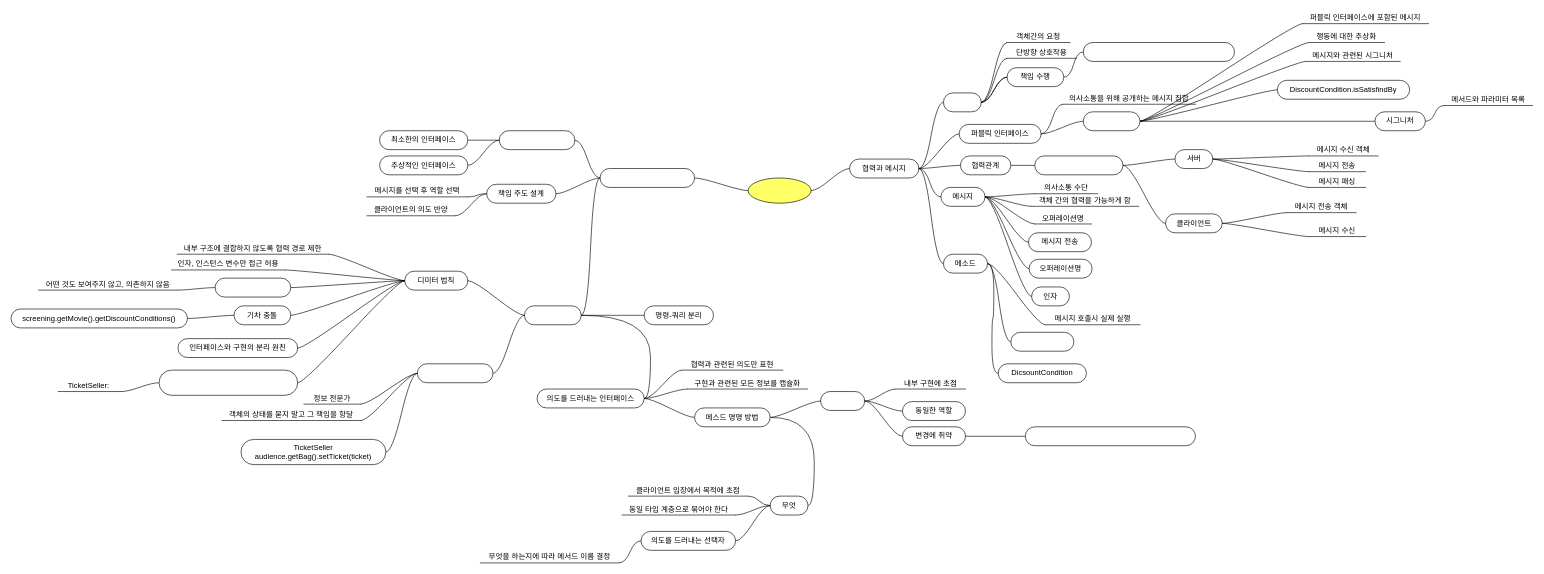
Some shapes in this 1544 by 574 pixel diagram are drawn without their labels. Each missing label, with the centre of its shape:
"isSatisfiedByPeriod/isSatisfiedBySequence" goes at pixel 1110 436.
"Screening -> Movie -> DiscountPolicy" goes at pixel 1158 51.
"Teather audience.getBag().hasInvitation()" goes at pixel 228 382.
"메시지와 인터페이스" goes at pixel 779 190.
"묻지 말고 시켜라" goes at pixel 455 373.
"부끄럼 타는 코드" goes at pixel 253 287.
"어떻게" goes at pixel 842 400.
"오퍼레이션" goes at pixel 1111 121.
"원칙/기법" goes at pixel 552 315.
"인터페이스와 설계품질" goes at pixel 647 177.
"좋은 인터페이스?" goes at pixel 537 140.
"지연 바인딩" goes at pixel 1042 341.
"클라이언트-서버 모델" goes at pixel 1078 165.
"협력" goes at pixel 962 102.
